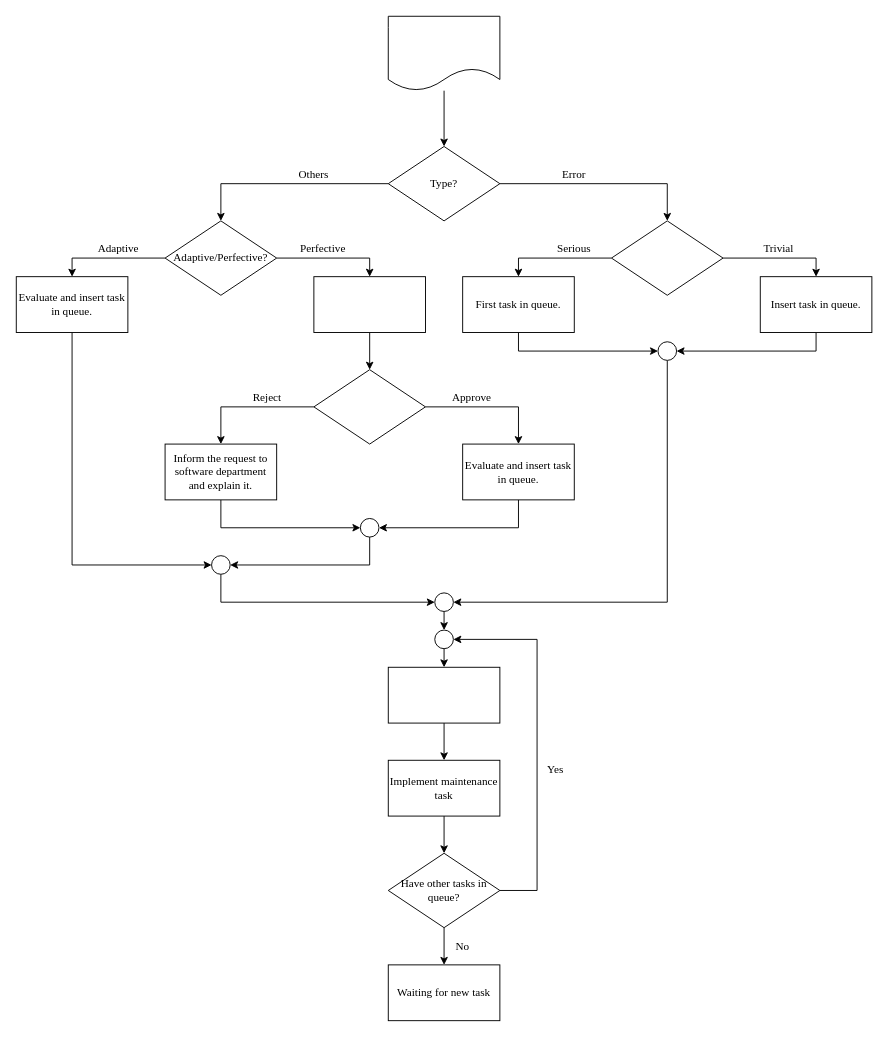
Image size: 888x1037. Some labels were removed from this diagram. Each missing label, with the centre of its shape:
Activity: (369,406)
Evaluate classify task.: (369,304)
Request form: (443,53)
Seriousness?: (667,257)
Take first task in queue: (443,694)
